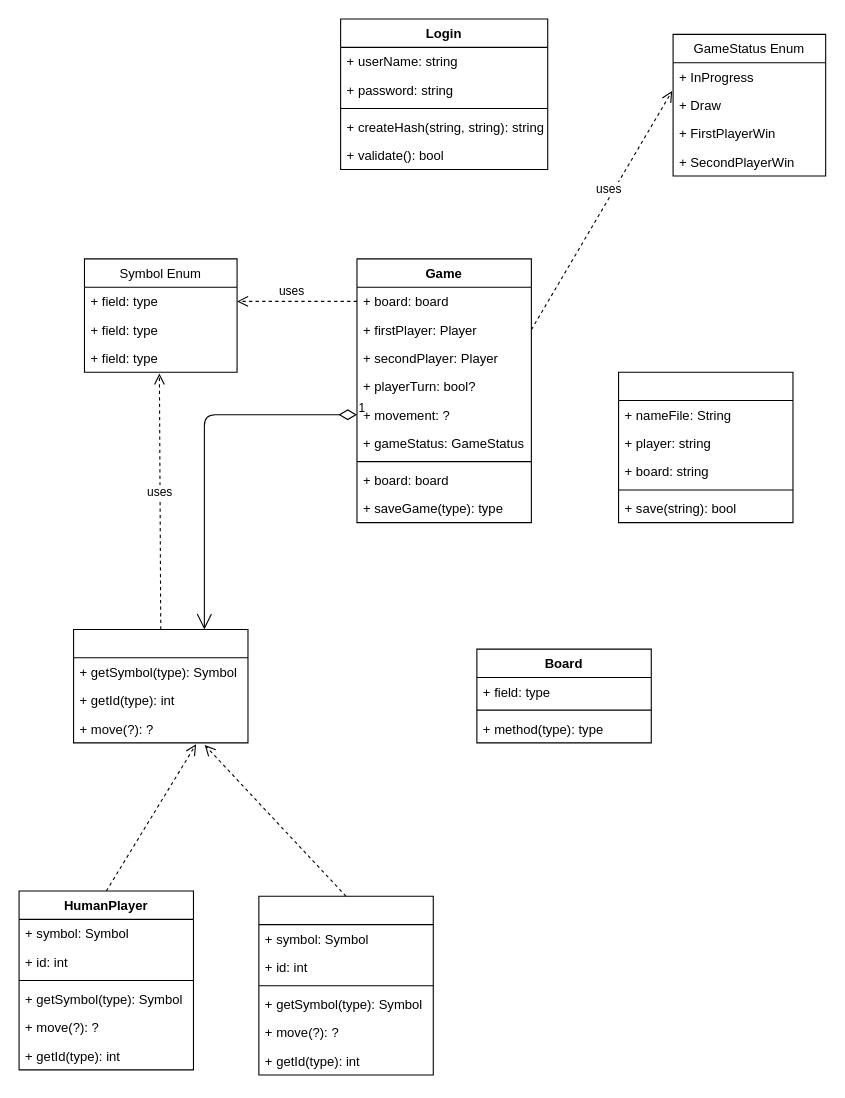
The diagram is 845 pixels wide and 1098 high, and some of its shapes have lost their labels. Each missing label, with the box of its shape:
GameStatus: (617, 371, 793, 523)
IAPlayer: (258, 895, 433, 1075)
IPlayer: (72, 628, 248, 743)
